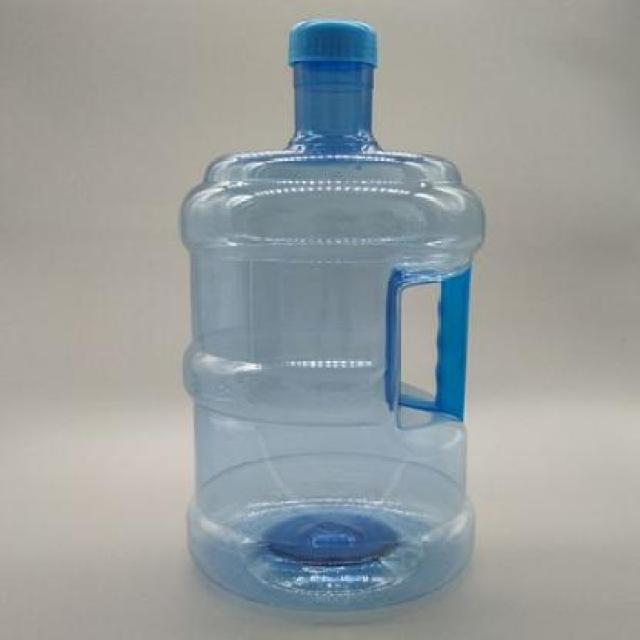coolerbottle: (174, 14, 490, 618)
